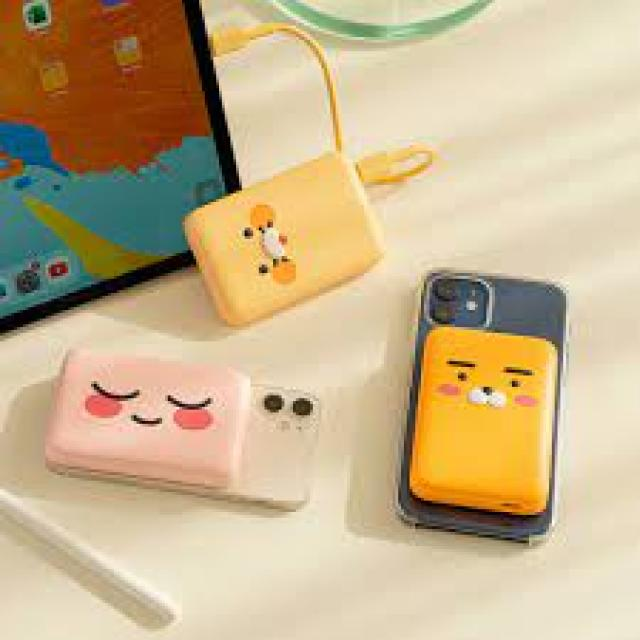power_bank: (187, 153, 383, 329), (51, 344, 248, 500), (407, 325, 557, 521)
